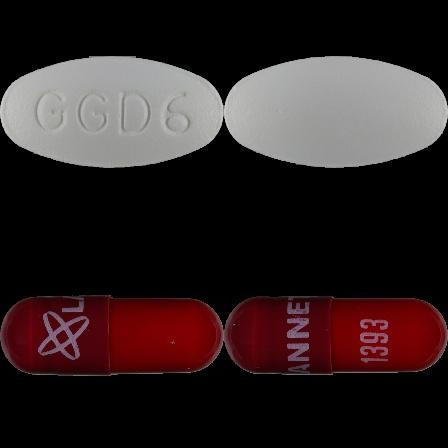54868-5471: (0, 0, 224, 224)
